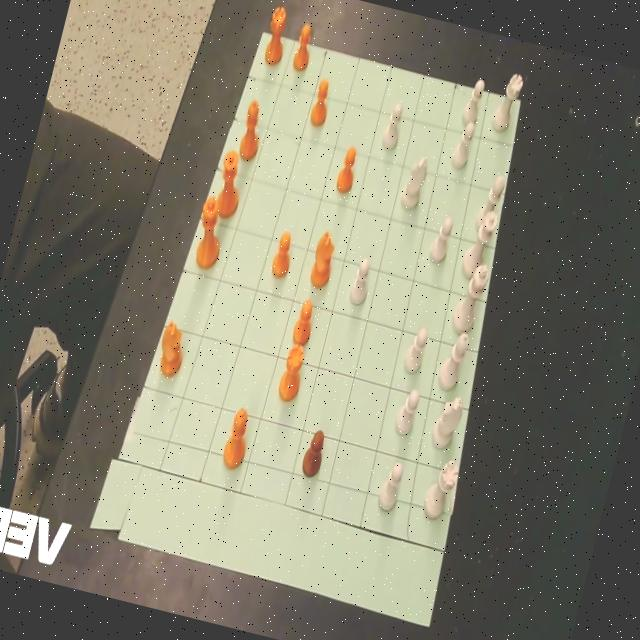orange_bishop: (224, 408, 247, 468), (239, 100, 259, 159)
orange_king: (196, 197, 220, 268)
orange_knight: (159, 323, 183, 377), (311, 231, 334, 287)
orange_pawn: (302, 430, 324, 476), (336, 146, 356, 191), (293, 23, 312, 70), (272, 231, 291, 277), (293, 299, 312, 345), (310, 80, 328, 125)
orange_queen: (218, 151, 238, 216)
orange_rook: (279, 344, 303, 400), (265, 7, 286, 64)
white_bishop: (439, 333, 468, 390), (476, 176, 505, 228)
white_king: (452, 264, 488, 333)
white_knight: (432, 397, 462, 448), (402, 157, 427, 209)
white_pawn: (379, 462, 403, 510), (404, 327, 428, 373), (395, 389, 419, 434), (452, 122, 475, 168), (430, 216, 452, 262), (462, 79, 484, 124), (382, 102, 402, 149), (349, 258, 369, 304)
white_queen: (462, 211, 498, 277)
white_rook: (424, 460, 459, 519), (492, 73, 522, 131)
